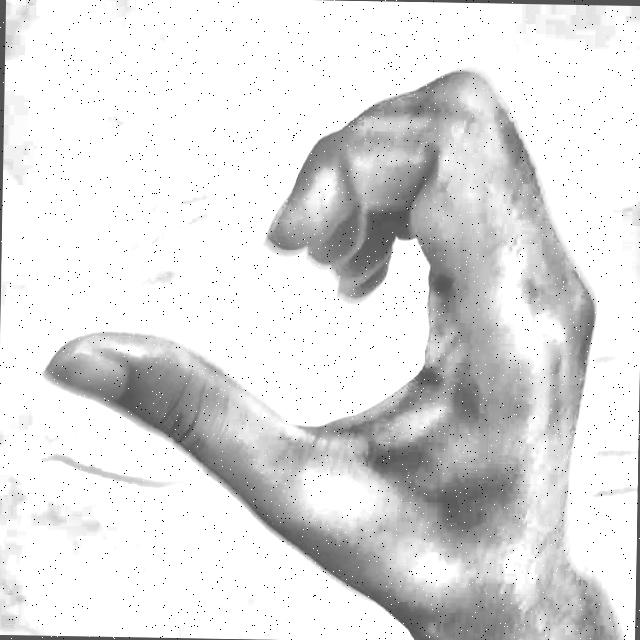Kha: (23, 21, 618, 624)
